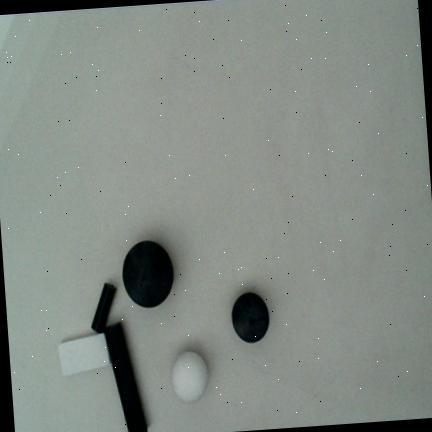Cilindro: (104, 322, 148, 432), (91, 282, 117, 333)
Esfera: (122, 241, 173, 308), (231, 292, 269, 343), (171, 352, 208, 403)
Paralelepipedo: (57, 332, 110, 375)
